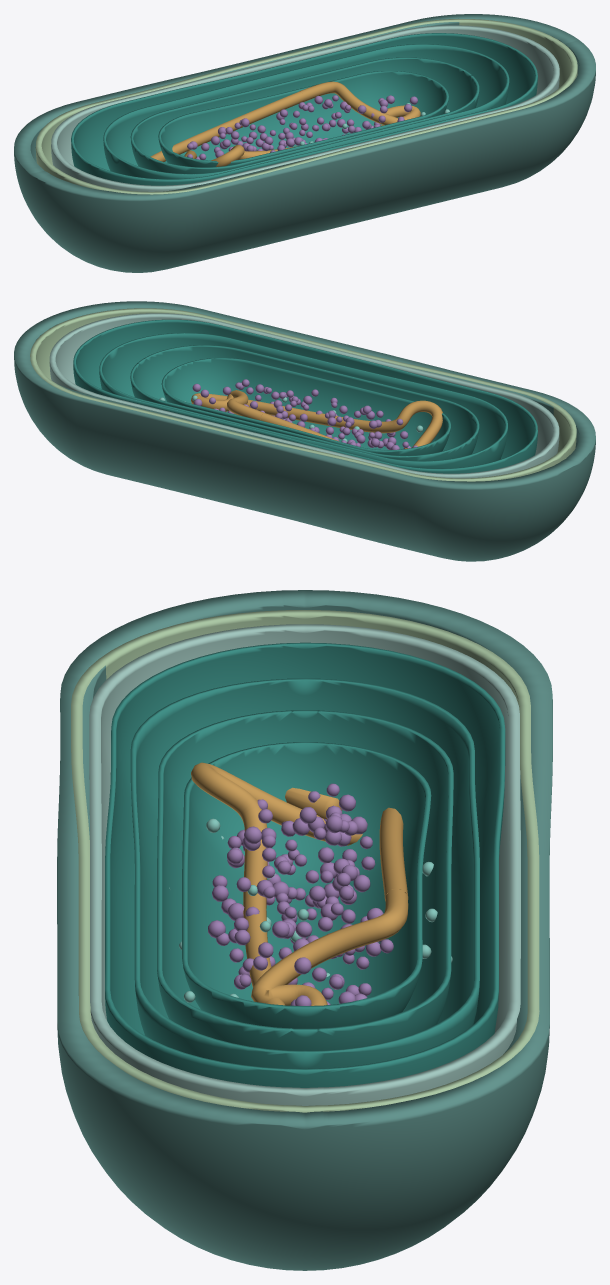
The model's file is cyanobacterium.glb.
3 renders of one model, top to bottom at view 1: azimuth 30°, elevation 25°; view 2: azimuth 150°, elevation 25°; view 3: azimuth 270°, elevation 25°, orthographic. The views are drawn at different scales.
Parts seen in each view (by area): view 1: wall, thylakoids, cytoplasm, membrane, ribosomes, nucleoid; view 2: wall, thylakoids, cytoplasm, membrane, nucleoid, ribosomes; view 3: thylakoids, wall, cytoplasm, membrane, ribosomes, nucleoid.
Part boxes in pixels (x1=…): wall: x1=14, y1=14, x2=595, y2=272; thylakoids: x1=71, y1=33, x2=537, y2=185; cytoplasm: x1=51, y1=25, x2=559, y2=191; membrane: x1=35, y1=18, x2=577, y2=194; ribosomes: x1=187, y1=95, x2=417, y2=159; nucleoid: x1=150, y1=81, x2=420, y2=166; wall: x1=14, y1=301, x2=595, y2=561; thylakoids: x1=73, y1=319, x2=537, y2=473; cytoplasm: x1=49, y1=313, x2=559, y2=478; membrane: x1=30, y1=308, x2=576, y2=481; nucleoid: x1=191, y1=390, x2=442, y2=448; ribosomes: x1=192, y1=379, x2=417, y2=449; thylakoids: x1=105, y1=642, x2=505, y2=1087; wall: x1=57, y1=590, x2=552, y2=1270; cytoplasm: x1=89, y1=624, x2=520, y2=1105; membrane: x1=71, y1=610, x2=539, y2=1112; ribosomes: x1=208, y1=783, x2=393, y2=1005; nucleoid: x1=191, y1=762, x2=408, y2=1005.
Bounding box in the file's own units: 5.4 × 1.08 × 2.11.
